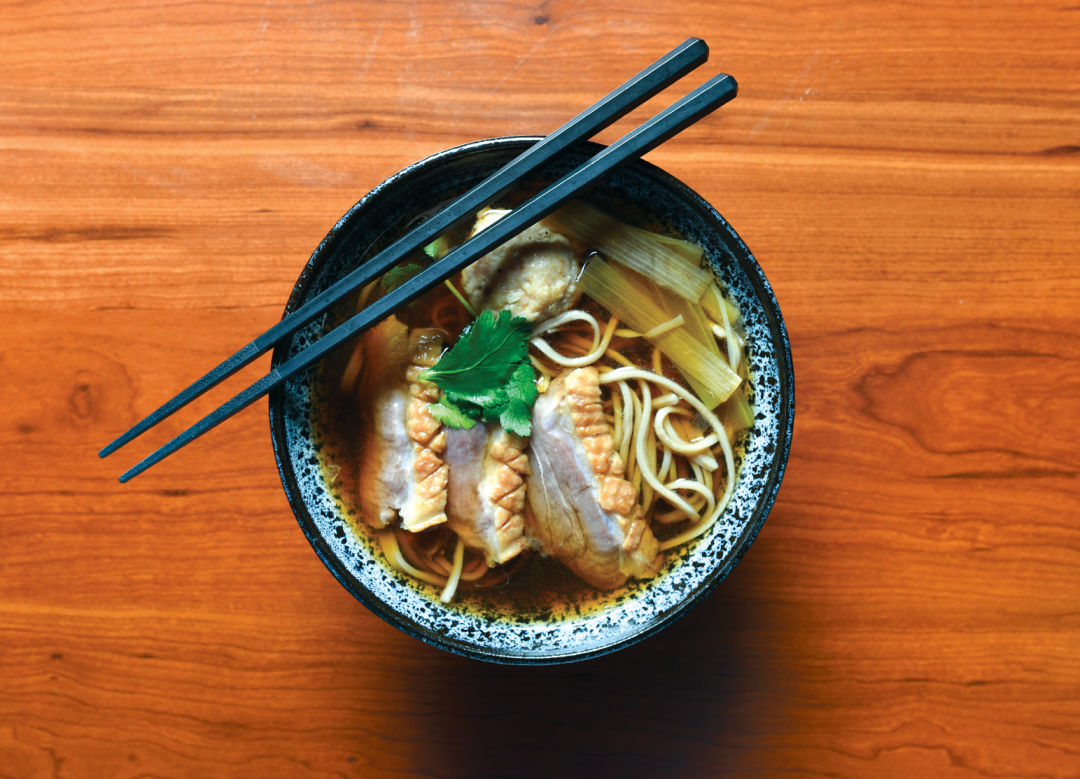Soba: (544, 297, 758, 563)
